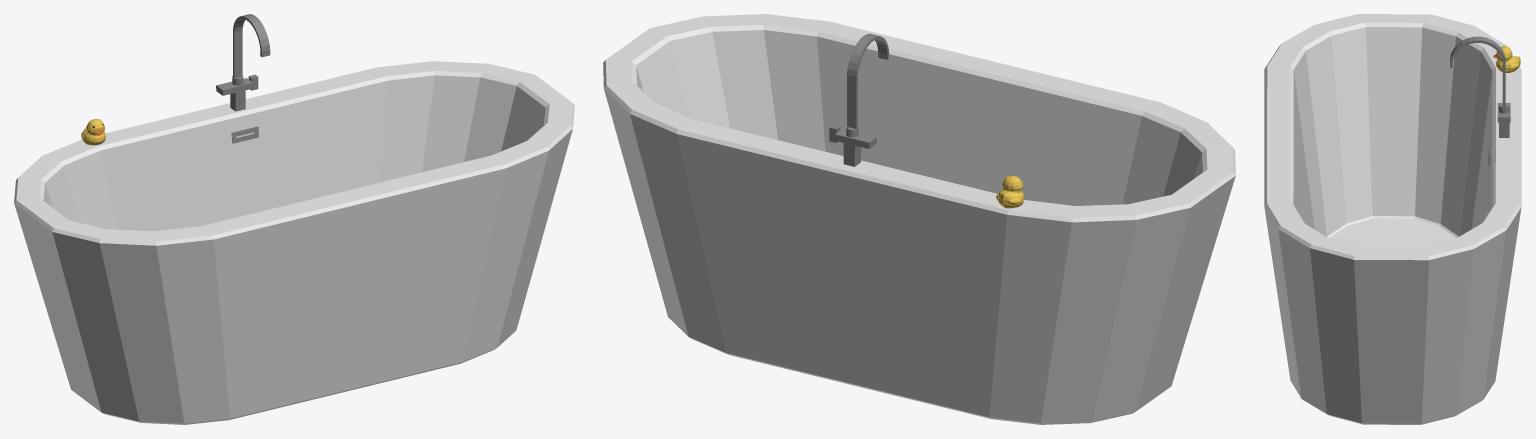
Rendered from Jacuzzi.fbx.
3 views of the same model, side by side, from view 1: azimuth 30°, elevation 25°; view 2: azimuth 150°, elevation 25°; view 3: azimuth 270°, elevation 25° (orthographic). The views are drawn at different scales.
Visible parts, largest first — view 1: Jacuzzi; view 2: Jacuzzi; view 3: Jacuzzi.
Part boxes in pixels (x1,y1,x2,y2): Jacuzzi: (14, 14, 574, 424); Jacuzzi: (603, 14, 1235, 424); Jacuzzi: (1264, 14, 1521, 424).
Bounding box in the file's own units: 283 × 158 × 126.
